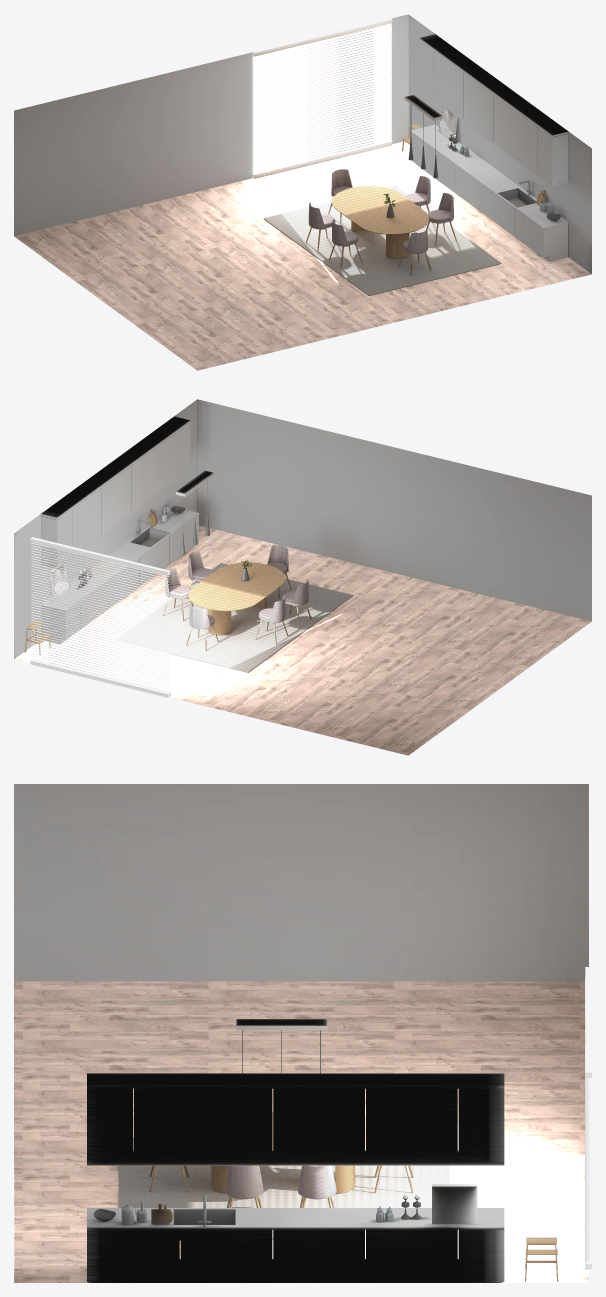
File: dining_room__kichen_baked-transformed.glb
3 renders of one model, top to bottom at view 1: azimuth 30°, elevation 25°; view 2: azimuth 150°, elevation 25°; view 3: azimuth 270°, elevation 25°, orthographic. The views are drawn at different scales.
Parts seen in each view (by area): view 1: floor_floor_0, house_Material.009_0, window_Material.016_0, cabinet_Material.015_0, carpet_Carpet _0, table_Material5.001_0, seat_Leather_0, faucet_Material.006_0; view 2: house_Material.009_0, floor_floor_0, cabinet_Material.015_0, window_Material.016_0, carpet_Carpet _0, table_Material5.001_0, seat_Leather_0, faucet_Material.006_0, painting_Material.010_0; view 3: house_Material.009_0, floor_floor_0, cabinet_Material.015_0, carpet_Carpet _0, seat_Leather_0, window_Material.016_0, painting_Material.010_0, lighting_Material.014_0, table_Material5.001_0, faucet_Material.006_0, IKEA seat_wood _0.
Boxes of the visible parts, x1=… form: floor_floor_0: x1=14, y1=141, x2=591, y2=370; house_Material.009_0: x1=14, y1=14, x2=591, y2=273; window_Material.016_0: x1=252, y1=18, x2=392, y2=178; cabinet_Material.015_0: x1=410, y1=34, x2=568, y2=261; carpet_Carpet _0: x1=263, y1=186, x2=501, y2=295; table_Material5.001_0: x1=332, y1=186, x2=428, y2=258; seat_Leather_0: x1=306, y1=169, x2=456, y2=275; faucet_Material.006_0: x1=498, y1=180, x2=536, y2=207; house_Material.009_0: x1=14, y1=399, x2=591, y2=658; floor_floor_0: x1=14, y1=525, x2=591, y2=755; cabinet_Material.015_0: x1=41, y1=416, x2=199, y2=644; window_Material.016_0: x1=30, y1=537, x2=170, y2=697; carpet_Carpet _0: x1=116, y1=563, x2=353, y2=672; table_Material5.001_0: x1=188, y1=562, x2=285, y2=635; seat_Leather_0: x1=162, y1=545, x2=311, y2=650; faucet_Material.006_0: x1=130, y1=520, x2=169, y2=547; painting_Material.010_0: x1=50, y1=562, x2=69, y2=598; house_Material.009_0: x1=14, y1=784, x2=588, y2=981; floor_floor_0: x1=14, y1=981, x2=588, y2=1282; cabinet_Material.015_0: x1=87, y1=1073, x2=504, y2=1281; carpet_Carpet _0: x1=119, y1=1137, x2=449, y2=1238; seat_Leather_0: x1=149, y1=1165, x2=413, y2=1207; window_Material.016_0: x1=585, y1=967, x2=591, y2=1269; painting_Material.010_0: x1=432, y1=1184, x2=477, y2=1224; lighting_Material.014_0: x1=236, y1=1019, x2=327, y2=1030; table_Material5.001_0: x1=211, y1=1112, x2=365, y2=1193; faucet_Material.006_0: x1=173, y1=1195, x2=235, y2=1226; IKEA seat_wood _0: x1=525, y1=1237, x2=558, y2=1281.
Size of the model in its own units: 9.84 by 3 by 7.97.
Materials: 26 (24 with a texture image).
